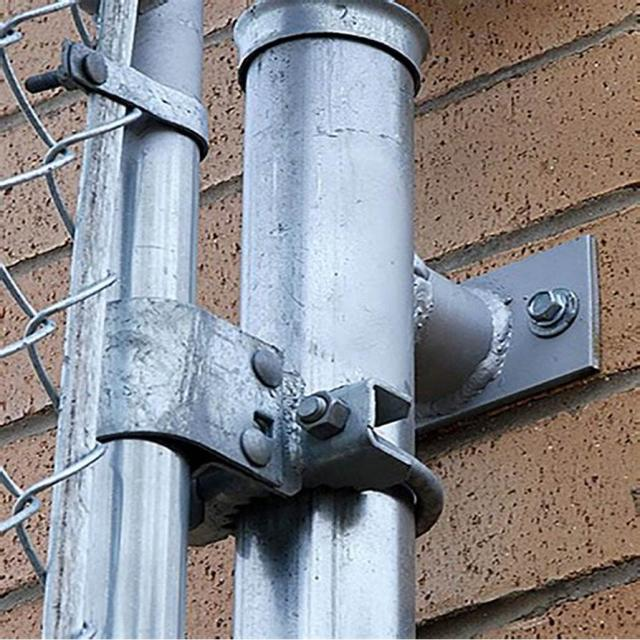blur bolt: (523, 290, 563, 323)
bolt nut: (293, 390, 352, 443)
